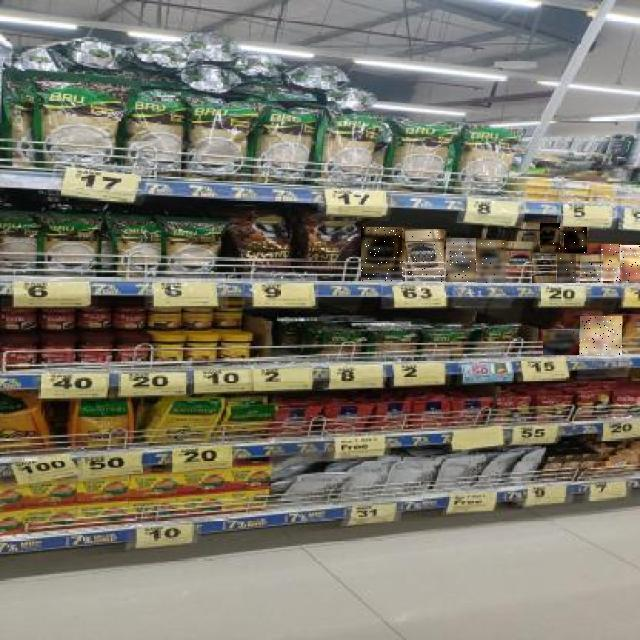Coffee: (362, 228, 404, 282), (405, 229, 444, 282), (581, 316, 623, 355), (446, 238, 476, 282), (478, 240, 508, 283), (543, 330, 579, 355), (601, 244, 621, 281), (620, 245, 640, 281), (532, 254, 556, 283), (580, 254, 603, 284), (564, 227, 587, 253), (540, 223, 560, 252), (558, 254, 578, 283)
